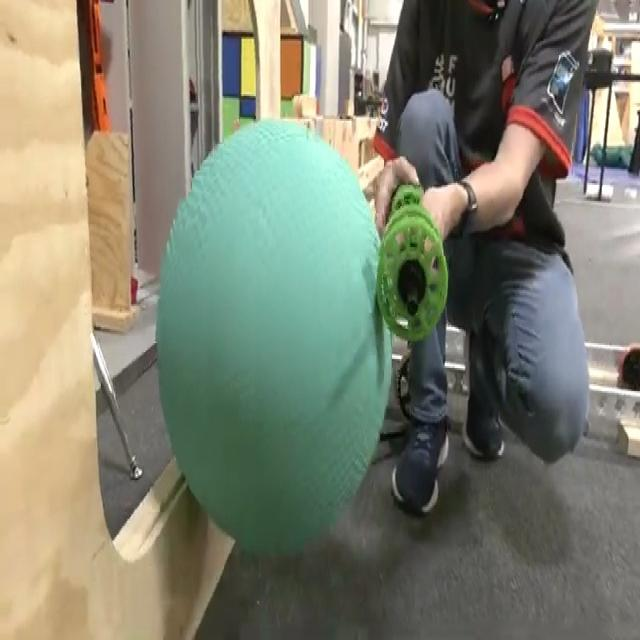Algae: (154, 114, 393, 558)
